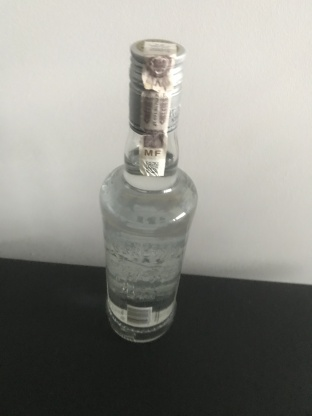nakretka: (126, 37, 188, 137)
